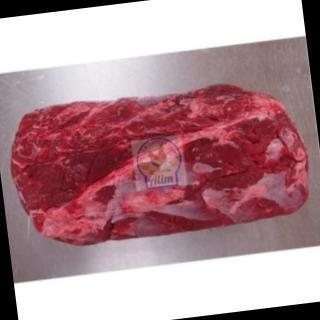Daging Sapi: (7, 79, 316, 251)
